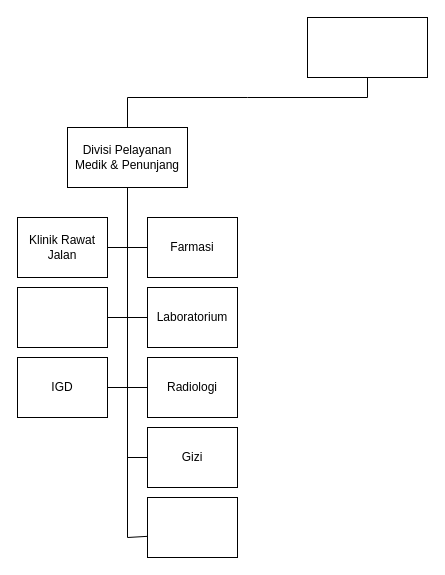
Image size: 445x575. Some labels were removed from this diagram. The centre of each missing label's shape, as x and y in pixels:
"Klinik Rawat Inap" goes at [62,317].
"Rekam Medis" goes at [192,527].
"RSU Muhammadiyah Metro" goes at [367,47].
